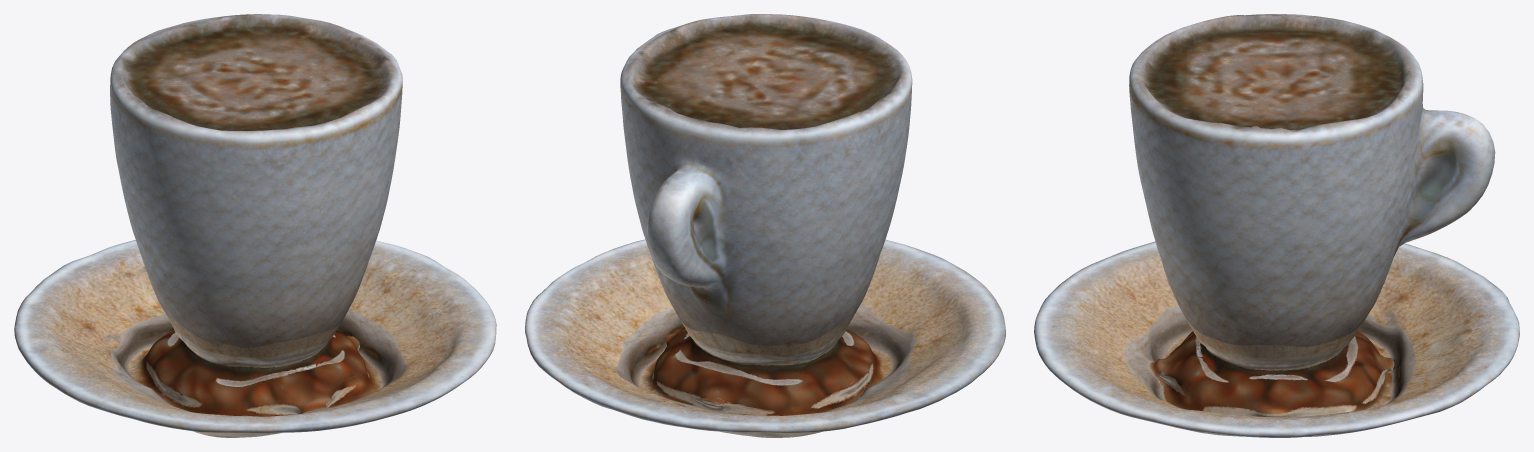
File: espresso.glb
3 views of the same model, side by side, from view 1: azimuth 30°, elevation 25°; view 2: azimuth 150°, elevation 25°; view 3: azimuth 270°, elevation 25° (orthographic).
Visible parts, largest first — view 1: mesh; view 2: mesh; view 3: mesh.
Boxes of the visible parts, x1,y1,x2,y2 form: mesh: [14, 14, 496, 437]; mesh: [525, 14, 1005, 437]; mesh: [1034, 14, 1519, 437].
Size of the model in its own units: 0.993 by 0.7178 by 0.9963.
Materials: 1 (1 with a texture image).
